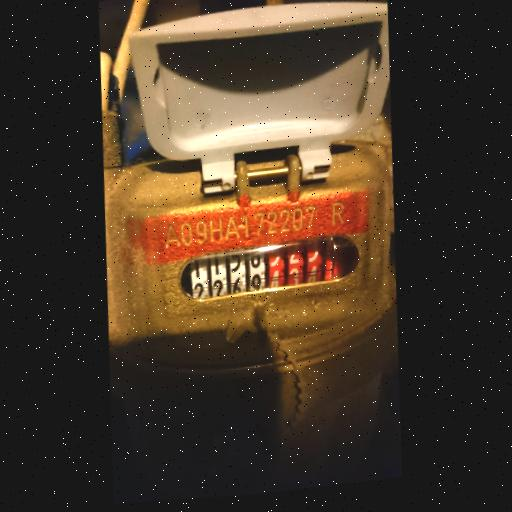1: (189, 253, 210, 300), (209, 251, 229, 298)
2: (286, 240, 306, 286)
3: (266, 244, 286, 290), (304, 237, 324, 283)
5: (227, 249, 247, 295)
8: (247, 245, 267, 293)
border_water_meter_number: (177, 233, 361, 302)
